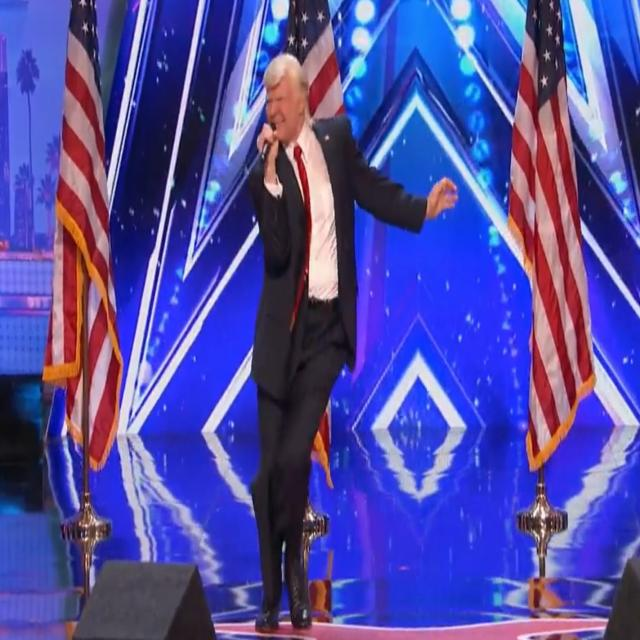stand: (237, 41, 365, 640)
